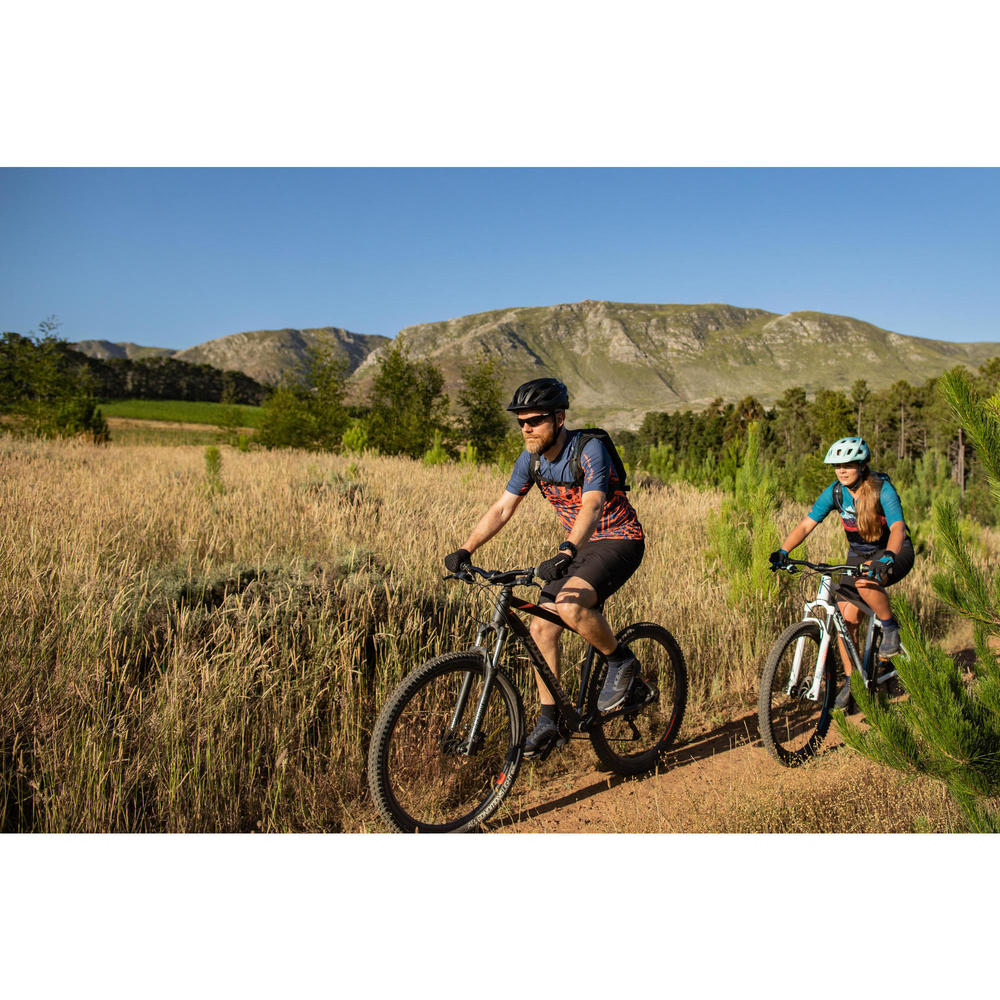MountainBike: (353, 547, 693, 834), (759, 531, 914, 782)
